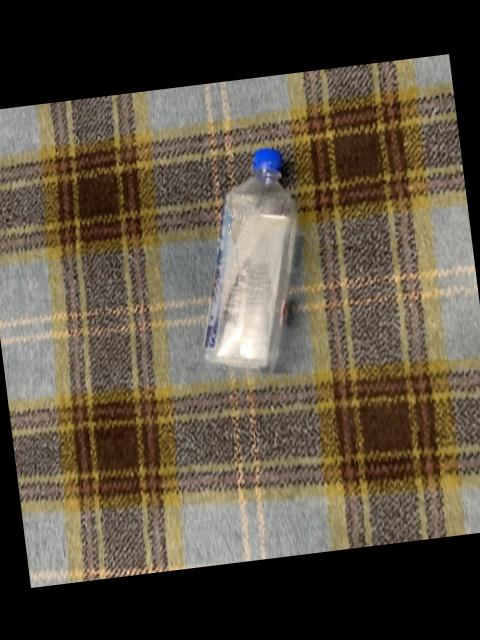plastic: (203, 149, 295, 371)
